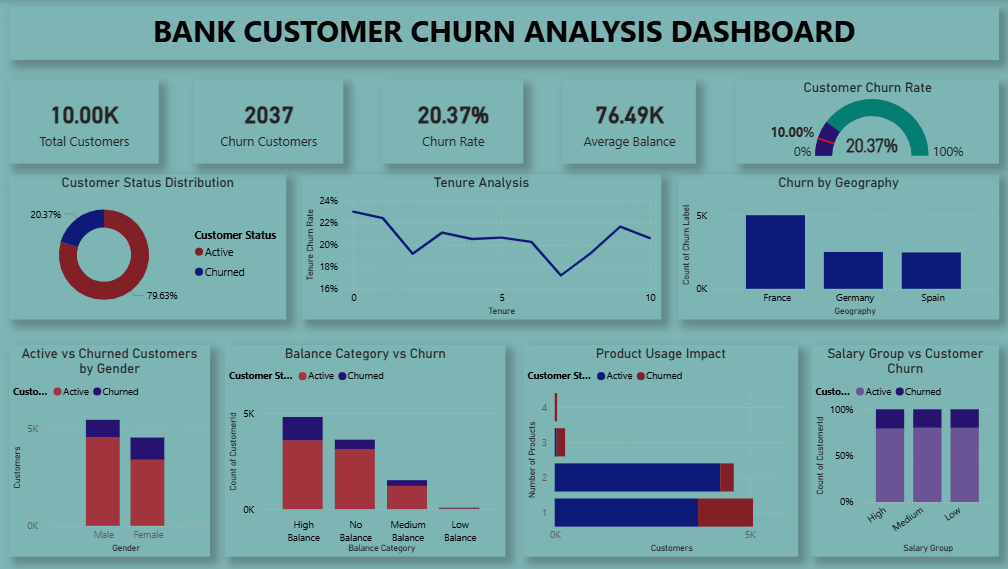

What the dashboard file says about the page in this screenshot:
{"tool":"powerbi","page":{"name":"Page 1","canvas":[1280,720],"ordinal":0},"visuals":[{"type":"donutChart","title":"Customer Status Distribution","fields":{"Category":["Churn_Modelling.Customer Status"],"Y":["CountNonNull(Churn_Modelling.CustomerId)"]},"box":[15.1,219.2,349.6,183.3],"z":0},{"type":"clusteredColumnChart","title":"Churn by Geography","fields":{"Category":["Churn_Modelling.Geography"],"Y":["CountNonNull(Churn_Modelling.Churn Label)"]},"box":[858,219.2,404.4,183.3],"z":1},{"type":"columnChart","title":"Active vs Churned Customers by Gender","fields":{"Category":["Churn_Modelling.Gender"],"Series":["Churn_Modelling.Customer Status"],"Y":["CountNonNull(Churn_Modelling.CustomerId)"]},"box":[15.1,434.6,253.2,266.5],"z":2},{"type":"columnChart","title":"Balance Category vs Churn","fields":{"Category":["Churn_Modelling.Balance Category"],"Y":["CountNonNull(Churn_Modelling.CustomerId)"],"Series":["Churn_Modelling.Customer Status"]},"box":[287.2,434.6,353.4,266.5],"z":3},{"type":"barChart","title":"Product Usage Impact","fields":{"Category":["Churn_Modelling.NumOfProducts"],"Y":["CountNonNull(Churn_Modelling.CustomerId)"],"Series":["Churn_Modelling.Customer Status"]},"box":[663.3,434.6,345.8,266.5],"z":4},{"type":"hundredPercentStackedColumnChart","title":"Salary Group vs Customer Churn","fields":{"Category":["Churn_Modelling.Salary Group"],"Series":["Churn_Modelling.Customer Status"],"Y":["CountNonNull(Churn_Modelling.CustomerId)"]},"box":[1026.1,434.6,236.2,266.5],"z":5},{"type":"lineChart","title":"Tenure Analysis","fields":{"Category":["Churn_Modelling.Tenure"],"Y":["Churn_Modelling.Tenure Churn Rate"]},"box":[383.6,219.2,453.5,183.3],"z":6},{"type":"textbox","box":[15.1,7.6,1247.3,68],"z":7},{"type":"card","fields":{"Values":["CountNonNull(Churn_Modelling.CustomerId)"]},"box":[15.1,100.2,189,105.8],"z":8},{"type":"card","fields":{"Values":["Churn_Modelling.Churn Customers"]},"box":[247.6,100.2,189,105.8],"z":9},{"type":"card","fields":{"Values":["Churn_Modelling.Churn Rate"]},"box":[485.7,100.2,177.6,105.8],"z":10},{"type":"card","fields":{"Values":["Avg(Churn_Modelling.Balance)"]},"box":[712.4,100.2,168.2,105.8],"z":11},{"type":"gauge","title":"Customer Churn Rate","fields":{"Y":["Churn_Modelling.Churn Rate"],"MinValue":["Churn_Modelling.Min value"],"MaxValue":["Churn_Modelling.Max value"],"TargetValue":["Churn_Modelling.Target value"]},"box":[931.7,100.2,330.7,105.8],"z":12}]}

Visuals, with their boxes in screenshot pixels (x1, y1, x2, y2), scaled from the page's 1280x720 canvas onto the 1008x569 screenshot:
"Customer Status Distribution" donutChart: 12/173/287/318
"Churn by Geography" clusteredColumnChart: 676/173/994/318
"Active vs Churned Customers by Gender" columnChart: 12/343/211/554
"Balance Category vs Churn" columnChart: 226/343/504/554
"Product Usage Impact" barChart: 522/343/795/554
"Salary Group vs Customer Churn" hundredPercentStackedColumnChart: 808/343/994/554
"Tenure Analysis" lineChart: 302/173/659/318
textbox: 12/6/994/60
card - CountNonNull(Churn_Modelling.CustomerId): 12/79/161/163
card - Churn_Modelling.Churn Customers: 195/79/344/163
card - Churn_Modelling.Churn Rate: 382/79/522/163
card - Avg(Churn_Modelling.Balance): 561/79/693/163
"Customer Churn Rate" gauge: 734/79/994/163
